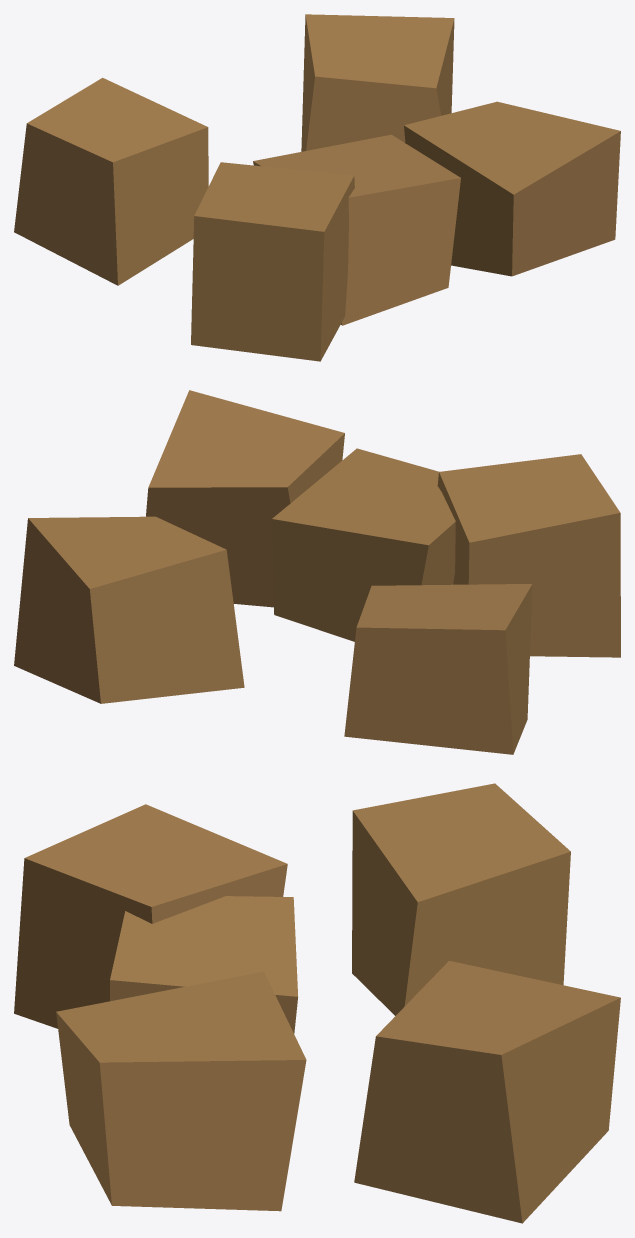
File: potato_pieces.glb
3 renders of one model, top to bottom at view 1: azimuth 30°, elevation 25°; view 2: azimuth 150°, elevation 25°; view 3: azimuth 270°, elevation 25°, orthographic. The views are drawn at different scales.
Parts seen in each view (by area): view 1: potato_pieces_0, potato_pieces_3, potato_pieces_4, potato_pieces_2, potato_pieces_1; view 2: potato_pieces_1, potato_pieces_0, potato_pieces_3, potato_pieces_2, potato_pieces_4; view 3: potato_pieces_1, potato_pieces_4, potato_pieces_0, potato_pieces_3, potato_pieces_2.
Part boxes in pixels (left/top/right/bottom): potato_pieces_0: left=14, top=77, right=208, bottom=285; potato_pieces_3: left=191, top=162, right=354, bottom=361; potato_pieces_4: left=404, top=101, right=620, bottom=276; potato_pieces_2: left=253, top=134, right=460, bottom=325; potato_pieces_1: left=301, top=14, right=454, bottom=151; potato_pieces_1: left=14, top=516, right=244, bottom=703; potato_pieces_0: left=344, top=584, right=532, bottom=754; potato_pieces_3: left=437, top=454, right=620, bottom=657; potato_pieces_2: left=272, top=448, right=455, bottom=641; potato_pieces_4: left=146, top=390, right=344, bottom=607; potato_pieces_1: left=354, top=961, right=620, bottom=1223; potato_pieces_4: left=56, top=971, right=306, bottom=1211; potato_pieces_0: left=352, top=783, right=570, bottom=1015; potato_pieces_3: left=14, top=804, right=287, bottom=1028; potato_pieces_2: left=110, top=896, right=298, bottom=1033.
Size of the model in its own units: 0.2181 by 0.0604 by 0.1981.
